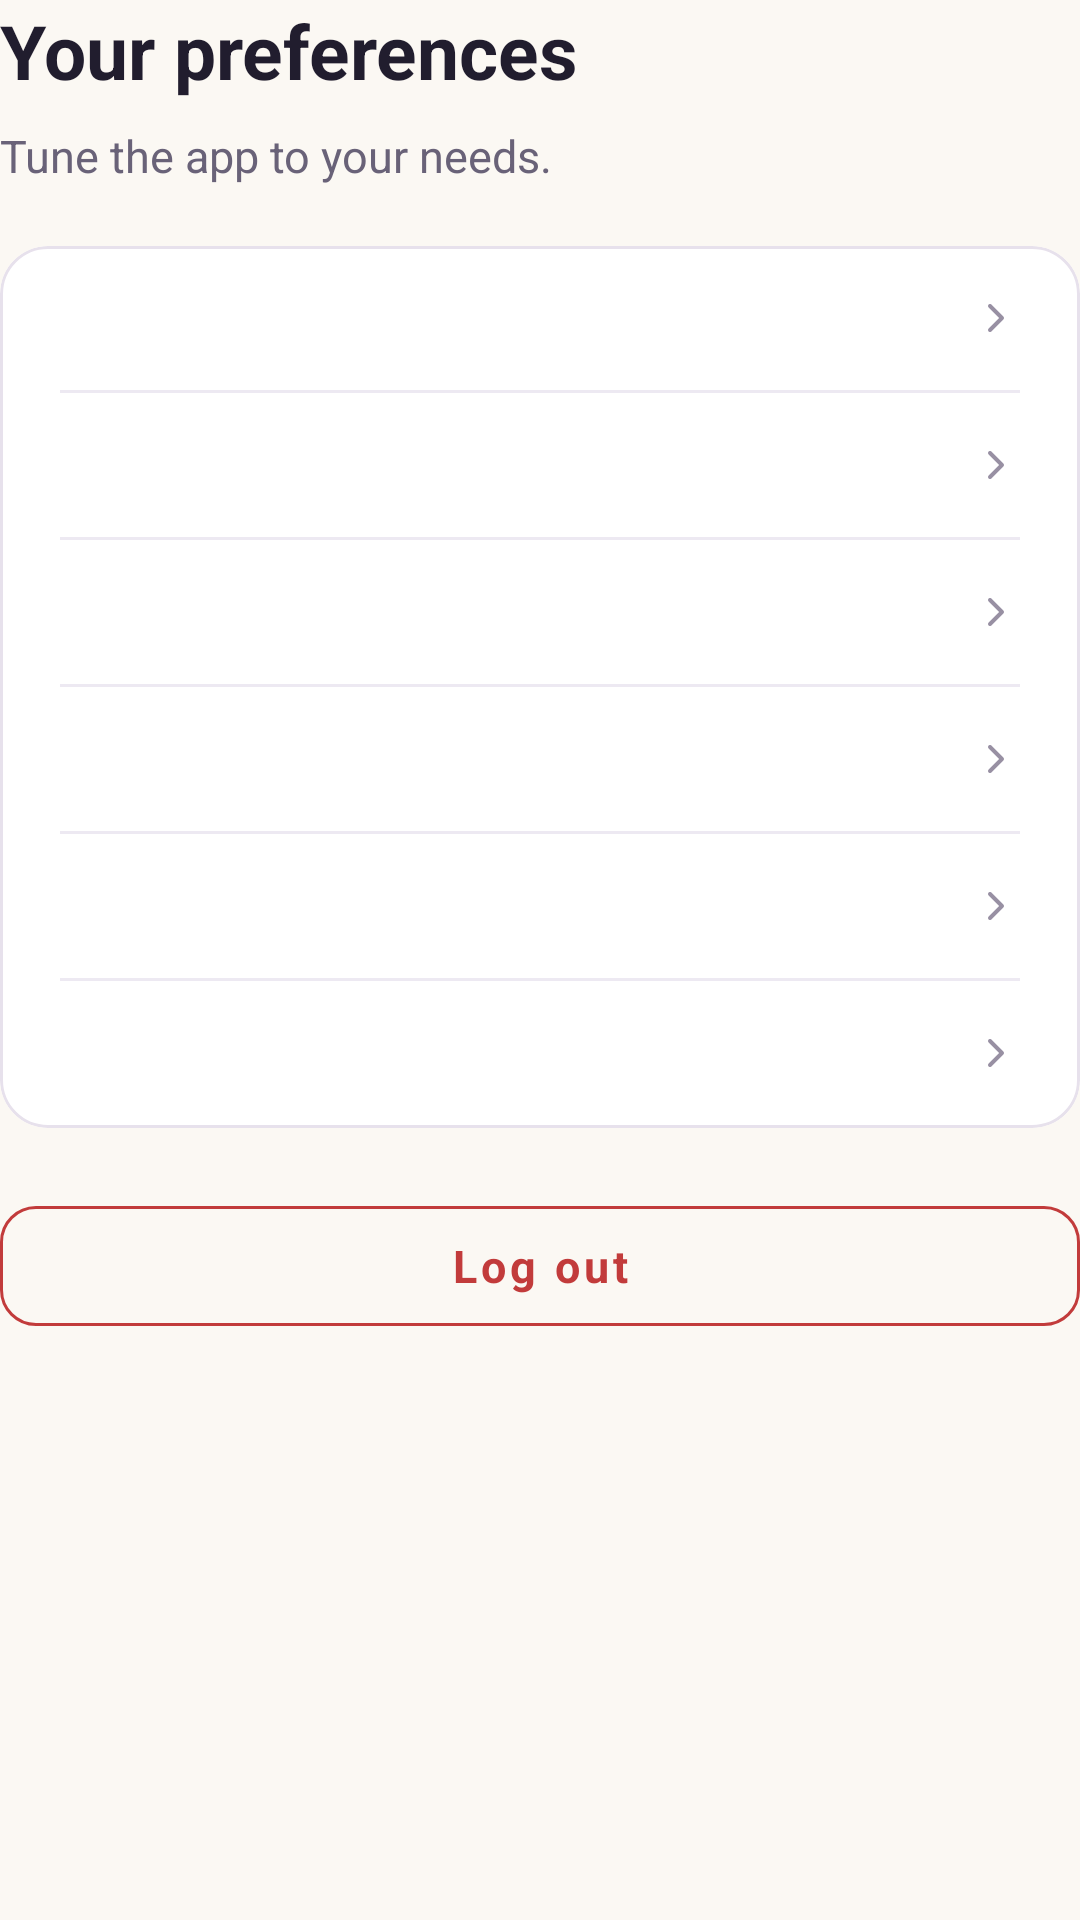

Icons on this 1080×1920 Android screen, each with the point to tap as (x=x, y=y):
chevron right: (x=996, y=318), (x=996, y=465), (x=996, y=612), (x=996, y=759), (x=996, y=906), (x=996, y=1053)
